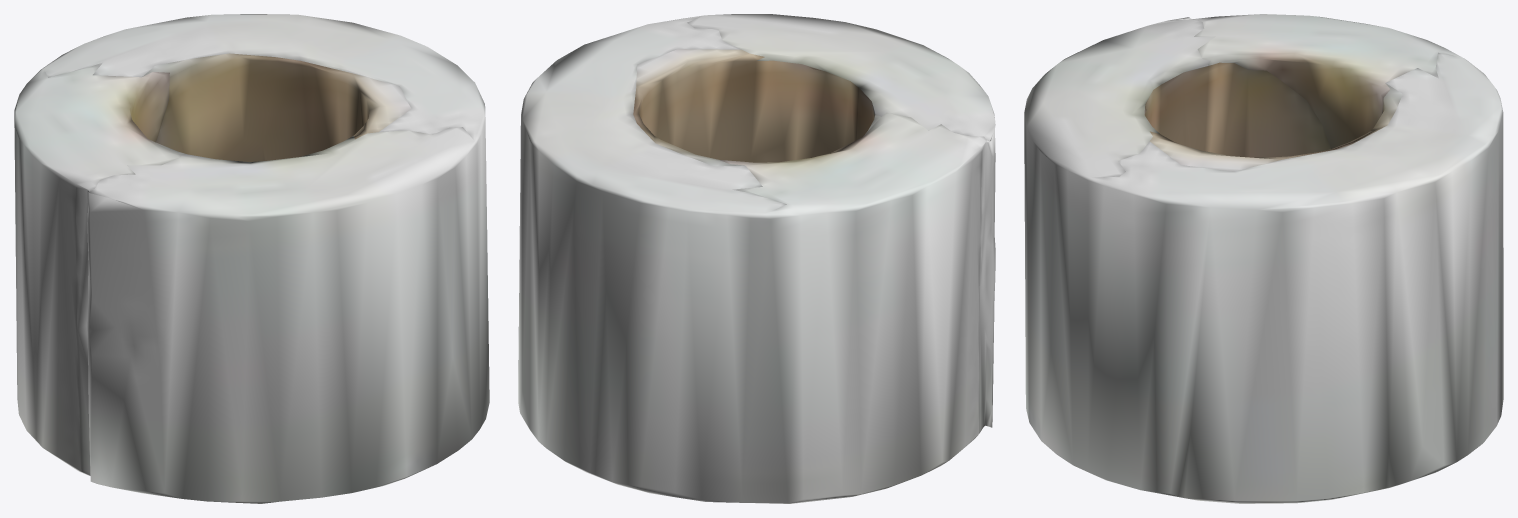
The model's file is Cole_Hardware_Antislip_Surfacing_Material_White-medium.glb.
3 renders of one model, left to right at view 1: azimuth 30°, elevation 25°; view 2: azimuth 150°, elevation 25°; view 3: azimuth 270°, elevation 25°, orthographic.
Parts seen in each view (by area): view 1: Cole_Hardware_Antislip_Surfacing_Material_White; view 2: Cole_Hardware_Antislip_Surfacing_Material_White; view 3: Cole_Hardware_Antislip_Surfacing_Material_White.
Boxes of the visible parts, x1,y1,x2,y2 form: Cole_Hardware_Antislip_Surfacing_Material_White: (14, 14, 489, 503); Cole_Hardware_Antislip_Surfacing_Material_White: (518, 14, 995, 503); Cole_Hardware_Antislip_Surfacing_Material_White: (1024, 14, 1503, 503).
Bounding box in the file's own units: 0.1542 × 0.1078 × 0.1542.
1 material, 1 textured.
